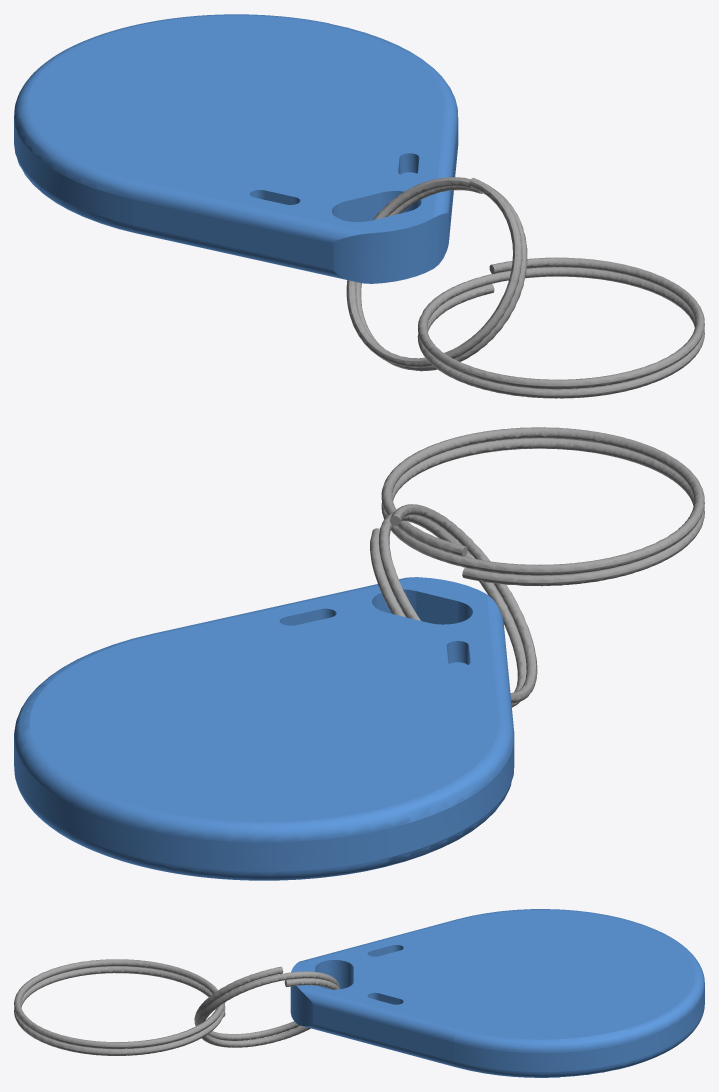
Rendered from Llavero Tag RFID.glb.
3 views of the same model, one above another, from view 1: azimuth 30°, elevation 25°; view 2: azimuth 150°, elevation 25°; view 3: azimuth 270°, elevation 25° (orthographic). The views are drawn at different scales.
Parts seen in each view (by area): view 1: SOLID, Llavero_2 v1, Llavero_1 v4; view 2: SOLID, Llavero_2 v1, Llavero_1 v4; view 3: SOLID, Llavero_2 v1, Llavero_1 v4.
Boxes of the visible parts, box(x1,y1,x2,y2) form: SOLID: box(14, 14, 458, 283); Llavero_2 v1: box(417, 257, 704, 398); Llavero_1 v4: box(346, 177, 527, 371); SOLID: box(14, 577, 514, 880); Llavero_2 v1: box(381, 427, 704, 586); Llavero_1 v4: box(370, 504, 537, 707); SOLID: box(290, 909, 704, 1077); Llavero_2 v1: box(14, 959, 225, 1055); Llavero_1 v4: box(194, 966, 340, 1047).
Bounding box in the file's own units: 32.08 × 12.14 × 67.78.
